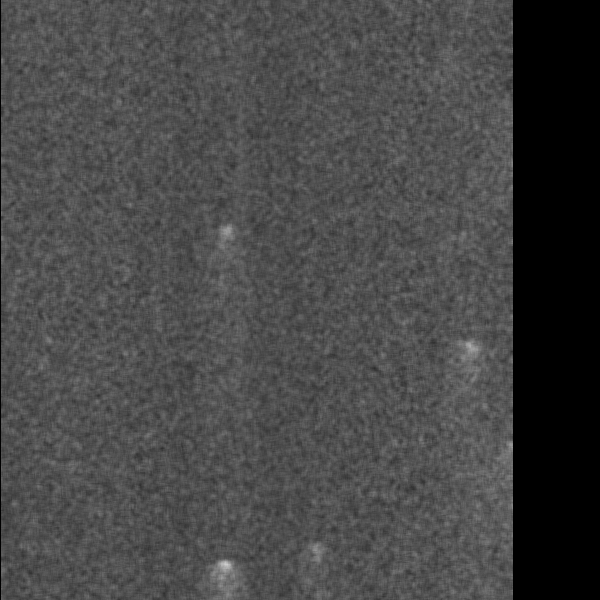spark: (457, 334, 484, 386), (211, 556, 242, 600), (216, 220, 236, 266), (306, 539, 327, 578)
